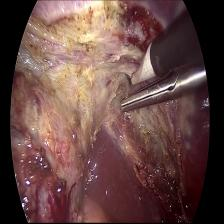Grasper: (117, 62, 188, 120)
Hook: (119, 34, 157, 92)
